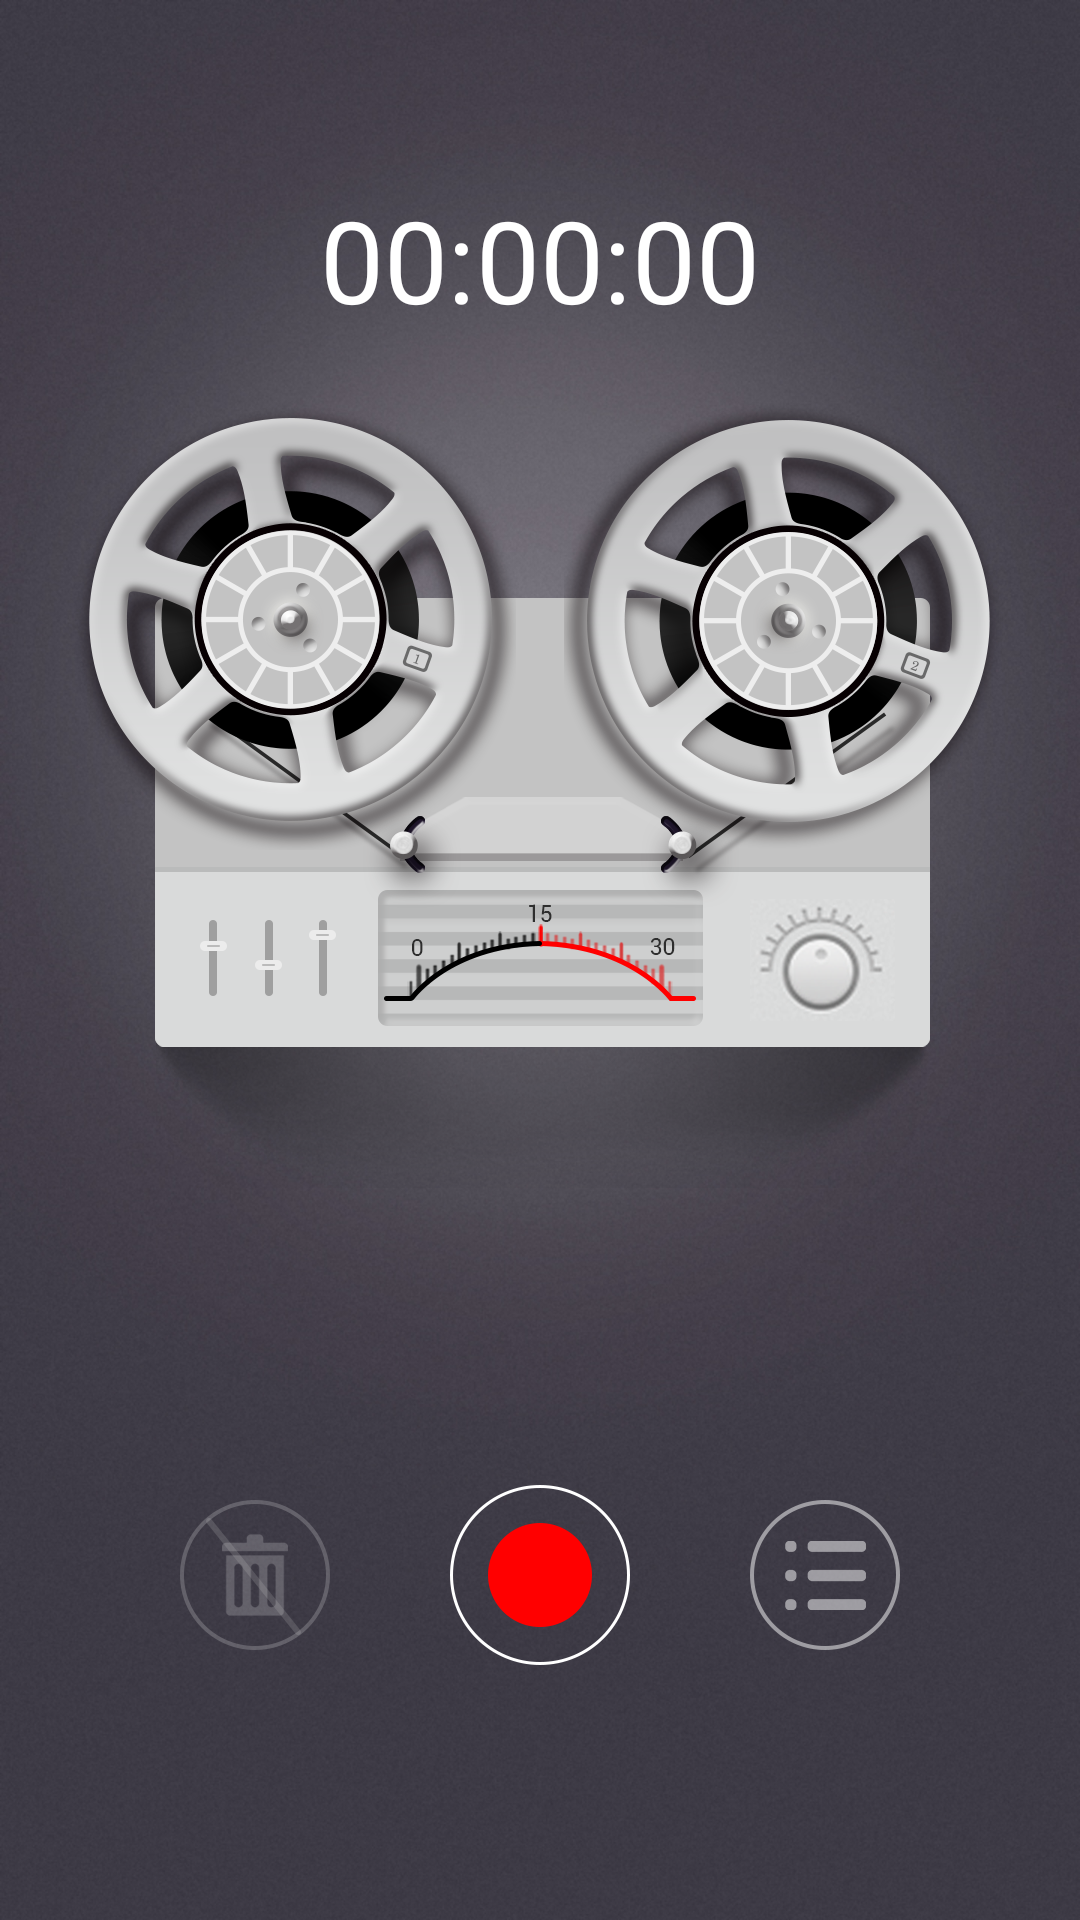

Locate icon controls on the screen. Image size 1080*1920, boxes as (x1, y1, x2, y2).
delete off: (180, 1500, 330, 1650)
list: (750, 1500, 900, 1650)
start: (450, 1485, 630, 1665)
